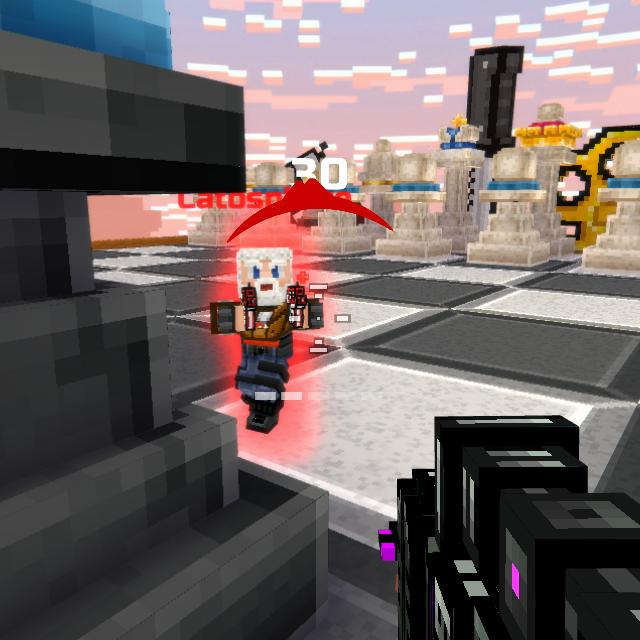Enemy: (212, 249, 325, 437)
